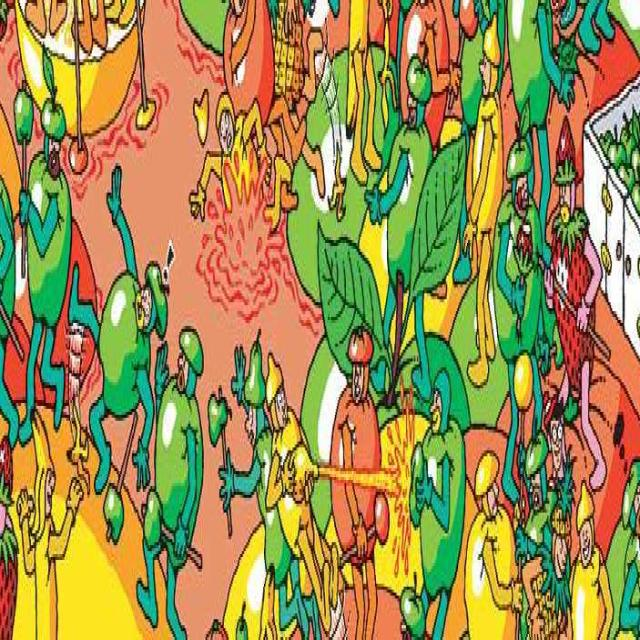waldo: (542, 391, 564, 468)
